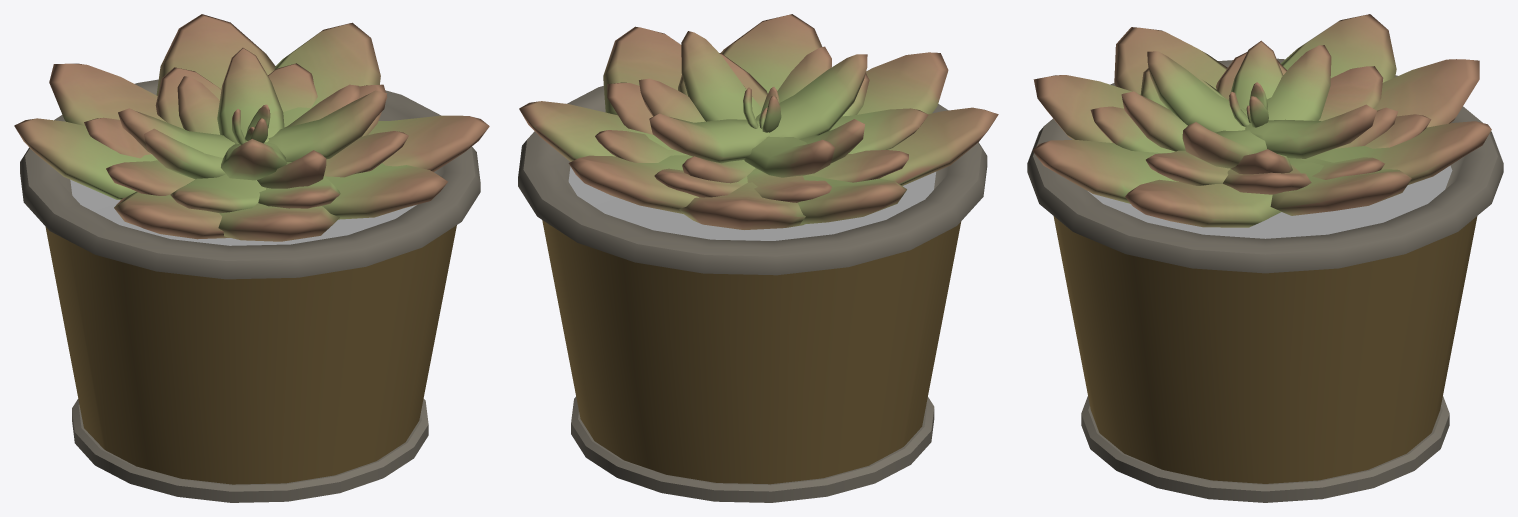
Rendered from plant_2_0926.fbx.
3 views of the same model, side by side, from view 1: azimuth 30°, elevation 25°; view 2: azimuth 150°, elevation 25°; view 3: azimuth 270°, elevation 25° (orthographic). The views are drawn at different scales.
Visible parts, largest first — view 1: pasted__pCylinder2, pCube17, pCube18, pCube14, pCube15, pCube16, pCube4, pCube5, pCube2, pCube3; view 2: pasted__pCylinder2, pCube17, pCube18, pCube14, pCube15, pCube16, pCube3, pCube2, pCube5, pCube4; view 3: pasted__pCylinder2, pCube17, pCube18, pCube14, pCube15, pCube16, pCube2, pCube4, pCube3, pCube5.
Part boxes in pixels (<box>): pasted__pCylinder2: <box>20,79,480,502</box>; pCube17: <box>49,22,447,239</box>; pCube18: <box>14,14,489,241</box>; pCube14: <box>118,48,387,180</box>; pCube15: <box>84,63,408,213</box>; pCube16: <box>106,67,387,208</box>; pCube4: <box>144,128,225,179</box>; pCube5: <box>177,76,219,134</box>; pCube2: <box>257,150,326,188</box>; pCube3: <box>284,84,359,127</box>; pasted__pCylinder2: <box>518,86,987,502</box>; pCube17: <box>519,14,998,229</box>; pCube18: <box>568,26,948,224</box>; pCube14: <box>649,31,867,177</box>; pCube15: <box>595,53,928,202</box>; pCube16: <box>607,73,908,197</box>; pCube3: <box>639,78,705,122</box>; pCube2: <box>777,46,831,102</box>; pCube5: <box>682,156,755,183</box>; pCube4: <box>799,119,864,163</box>; pasted__pCylinder2: <box>1027,58,1503,502</box>; pCube17: <box>1032,27,1479,215</box>; pCube18: <box>1033,14,1491,227</box>; pCube14: <box>1147,45,1376,168</box>; pCube15: <box>1140,66,1384,185</box>; pCube16: <box>1090,52,1431,194</box>; pCube2: <box>1121,91,1187,151</box>; pCube4: <box>1228,40,1283,109</box>; pCube3: <box>1230,149,1292,174</box>; pCube5: <box>1335,107,1397,148</box>.
Bounding box in the file's own units: 1.73 × 1.4 × 1.73.
